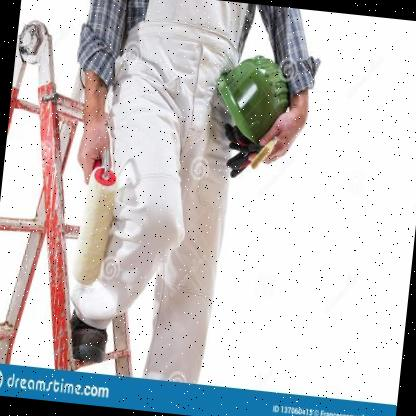bota: (60, 309, 114, 368)
